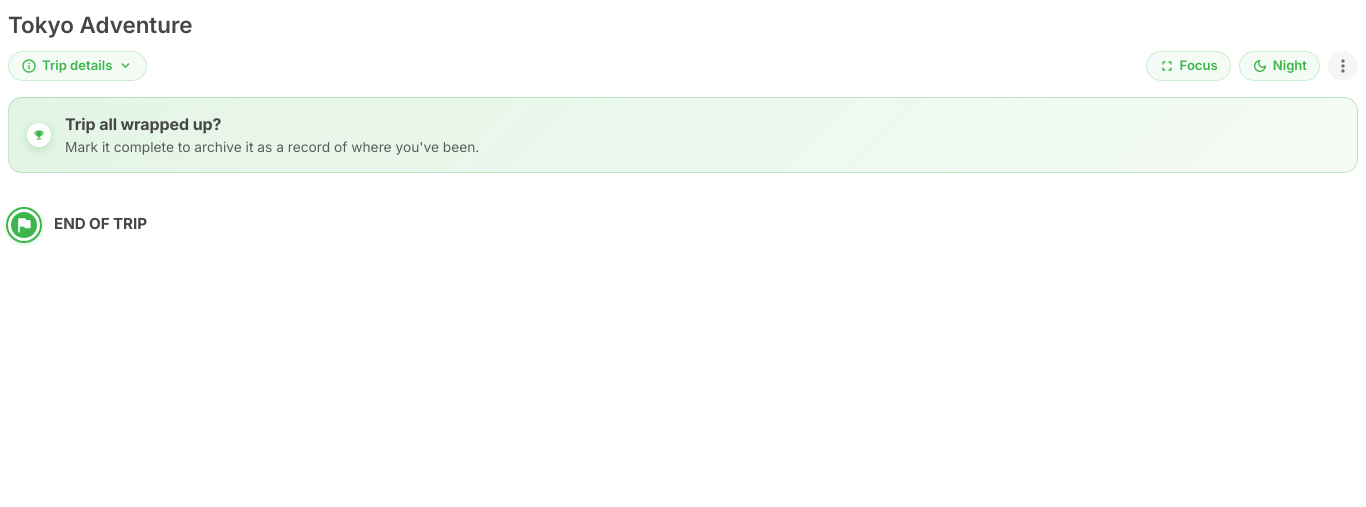
it: TripDetail — mobile header (kebab-hosted controls) › shows the "saving offline…" menu item while a snapshot syncs
Click the button named "More actions" at (1343, 66), box [1328,51,1358,81]
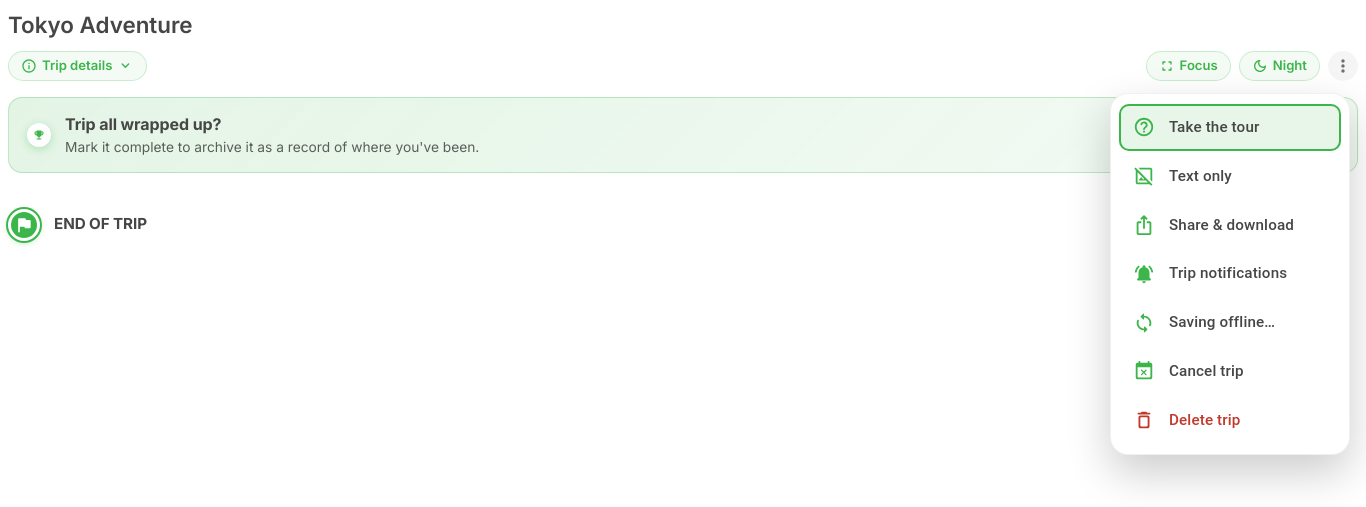
Result: the menu item "Saving offline…" is shown at [1133,312,1275,334]
